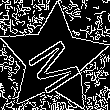M_NE: (21, 27, 86, 92)
